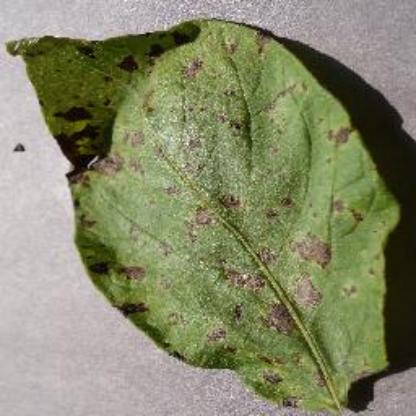Early-Blight: (5, 24, 405, 412)
